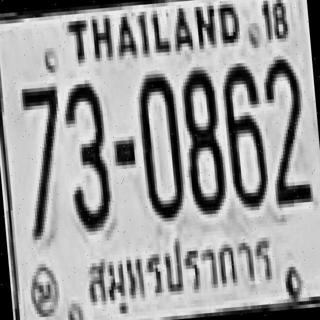N00: (134, 69, 184, 220)
N02: (260, 54, 310, 205)
N03: (62, 79, 111, 230)
N06: (218, 60, 268, 207)
N07: (17, 83, 67, 237)
N08: (179, 66, 224, 212)
P57: (78, 226, 283, 310)
